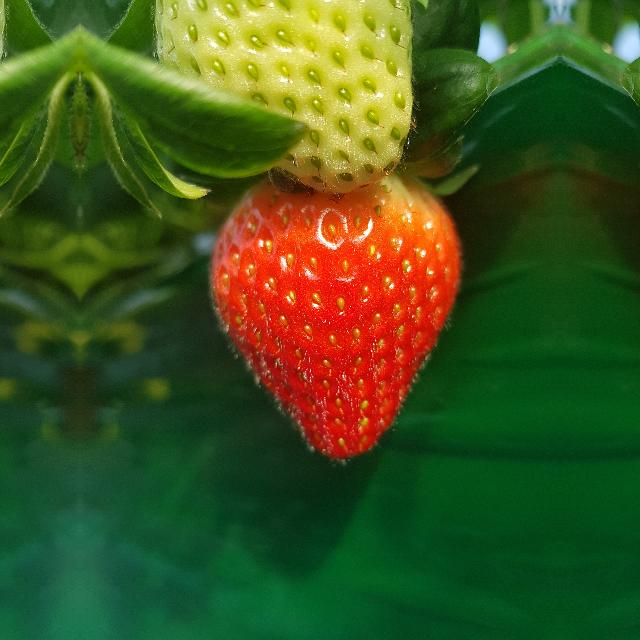Health_100: (207, 165, 463, 461)
Health_25: (148, 3, 414, 188)
